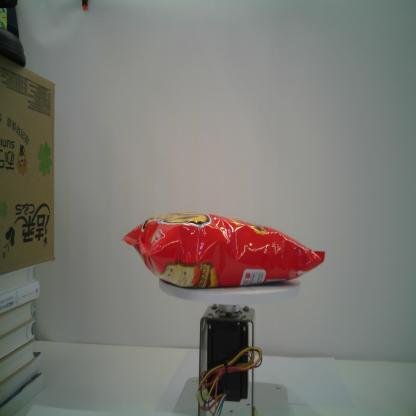Puffed Food: (119, 211, 326, 289)
